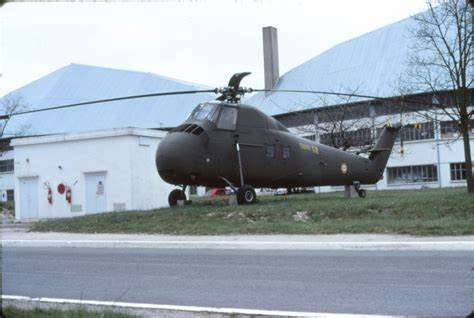Aeronef_militaire: (1, 68, 447, 212)
